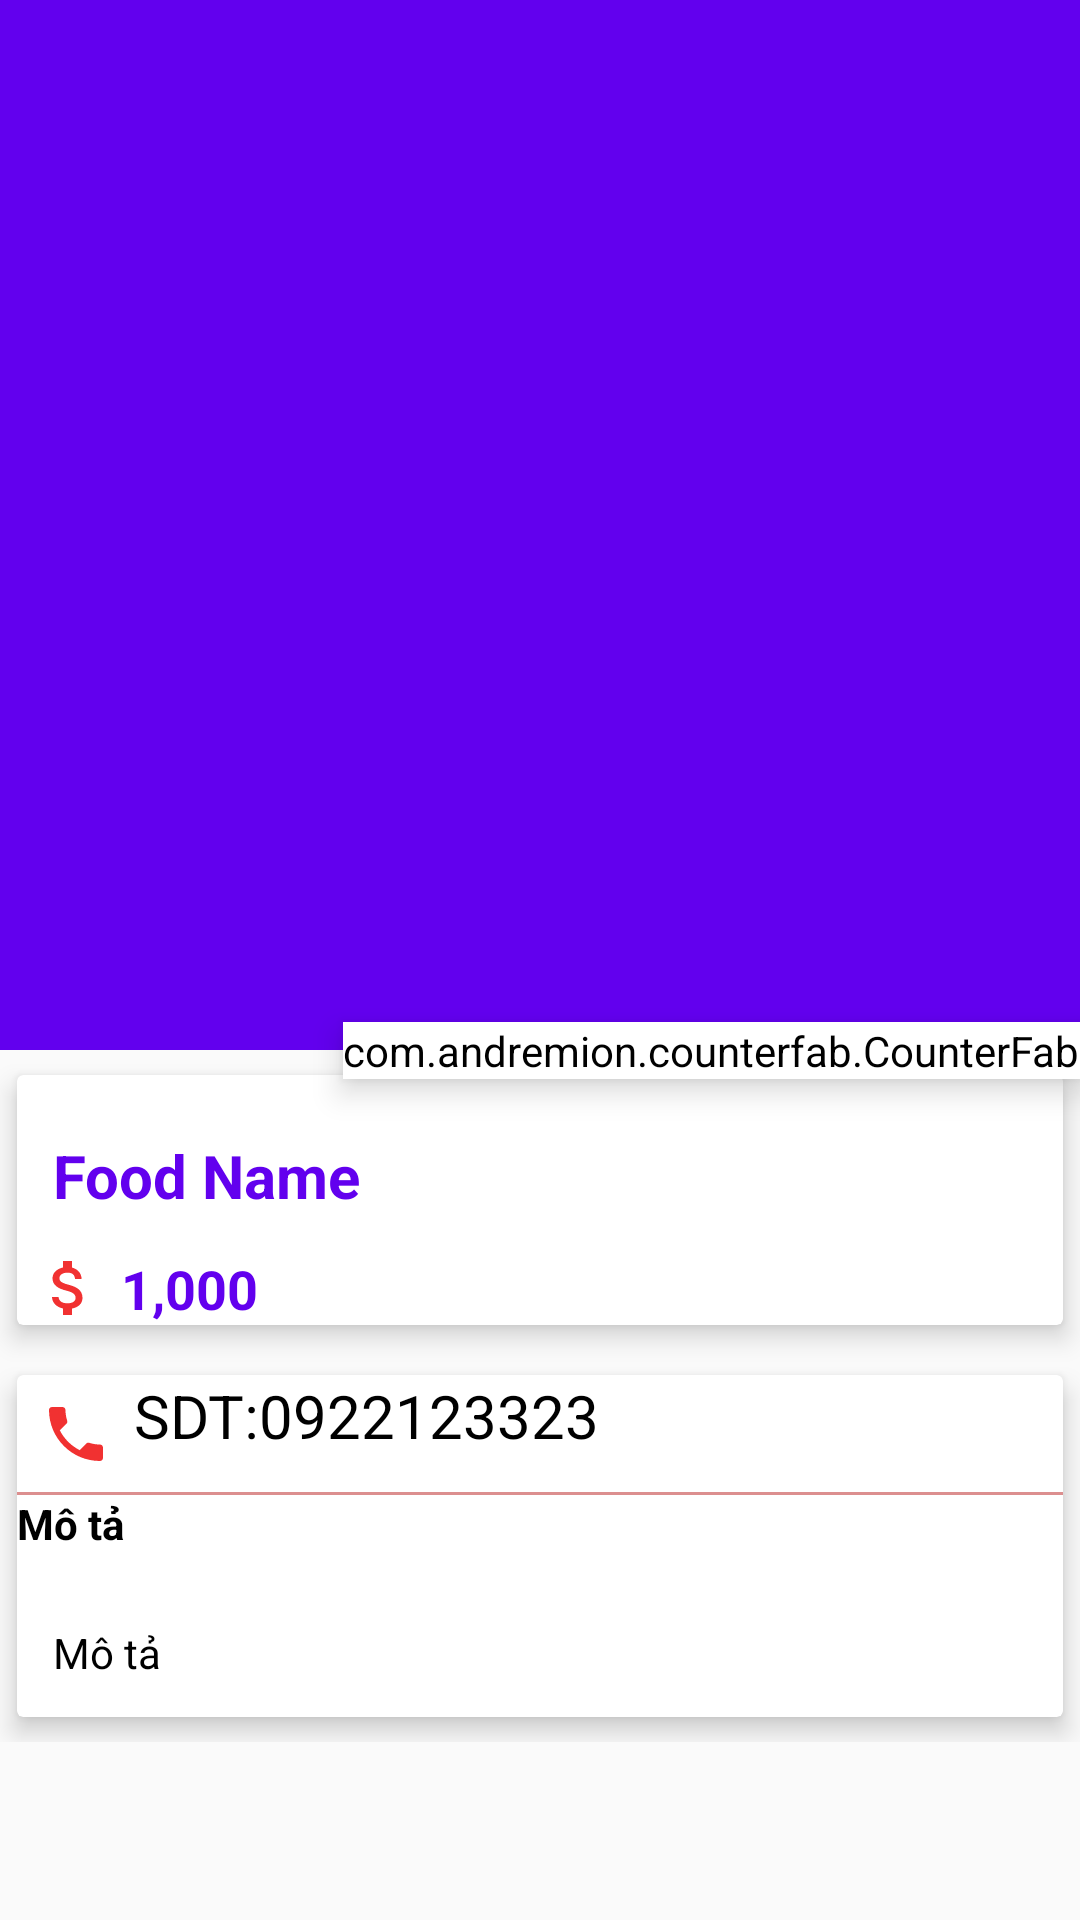

Icon click points for this 1080*1920 phone screenshot, format (x=x, y=y):
attach money: (x=67, y=1288)
local phone: (x=76, y=1434)
